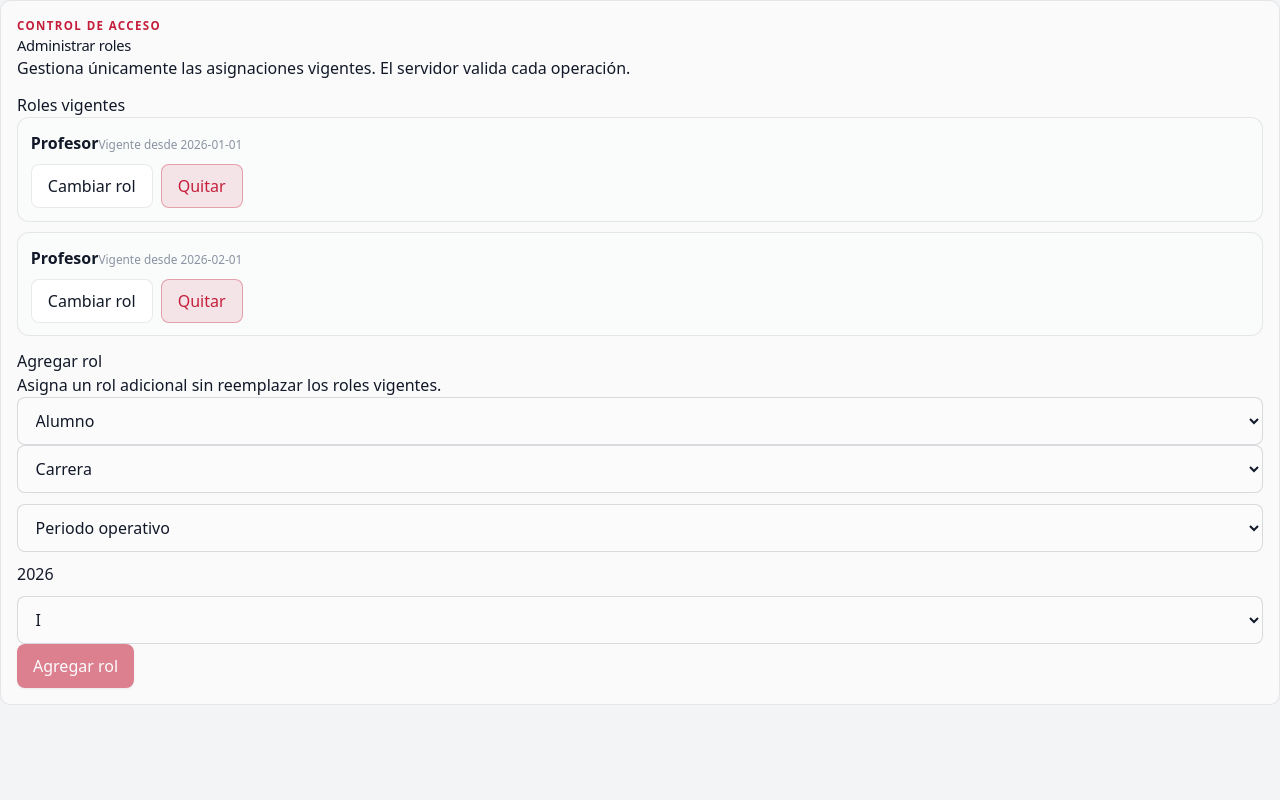
PersonRolesPanel › conserva el borrador de alta al abrir y cancelar un cambio de rol
Select "Artes" in the dropdown named "Carrera para el rol alumno" at [640, 469], box [17, 445, 1263, 493]
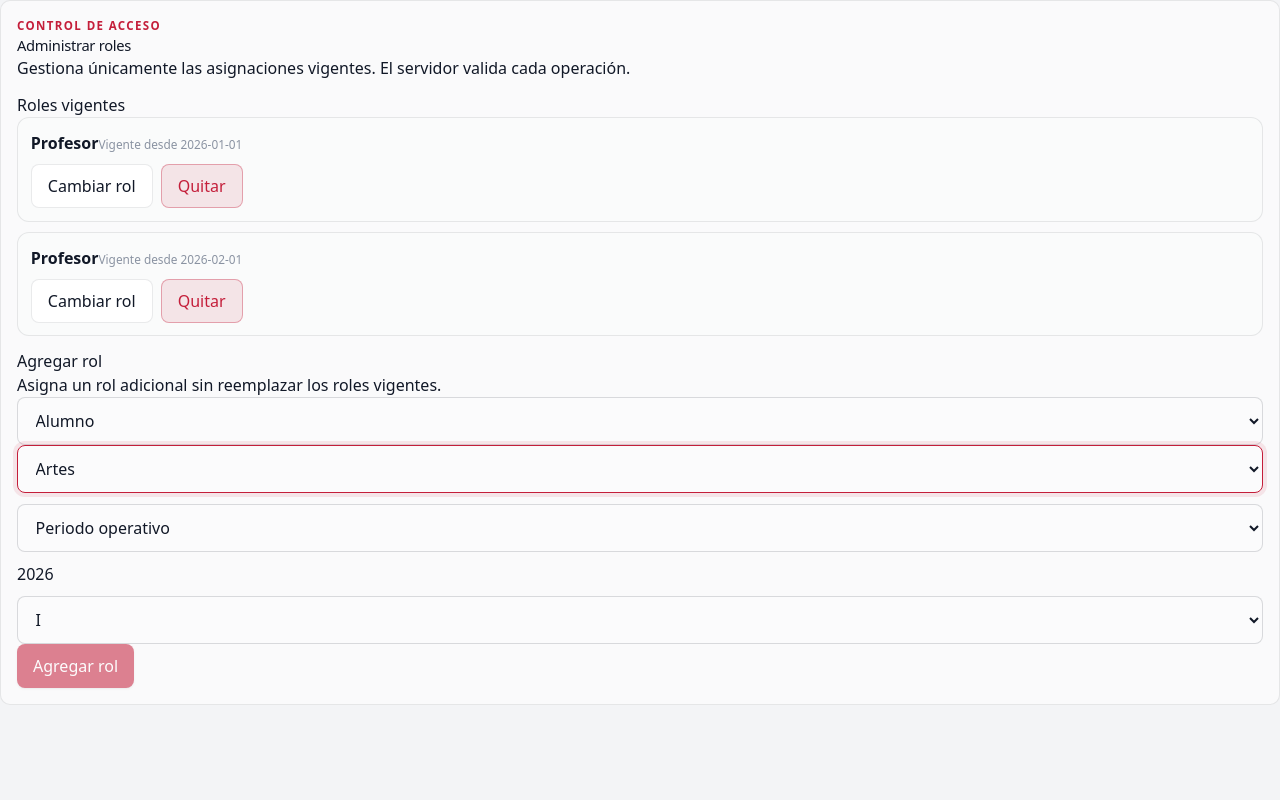
Select "2026-II" in the dropdown named "Periodo operativo de inscripción del rol alumno" at [640, 528], box [17, 504, 1263, 552]
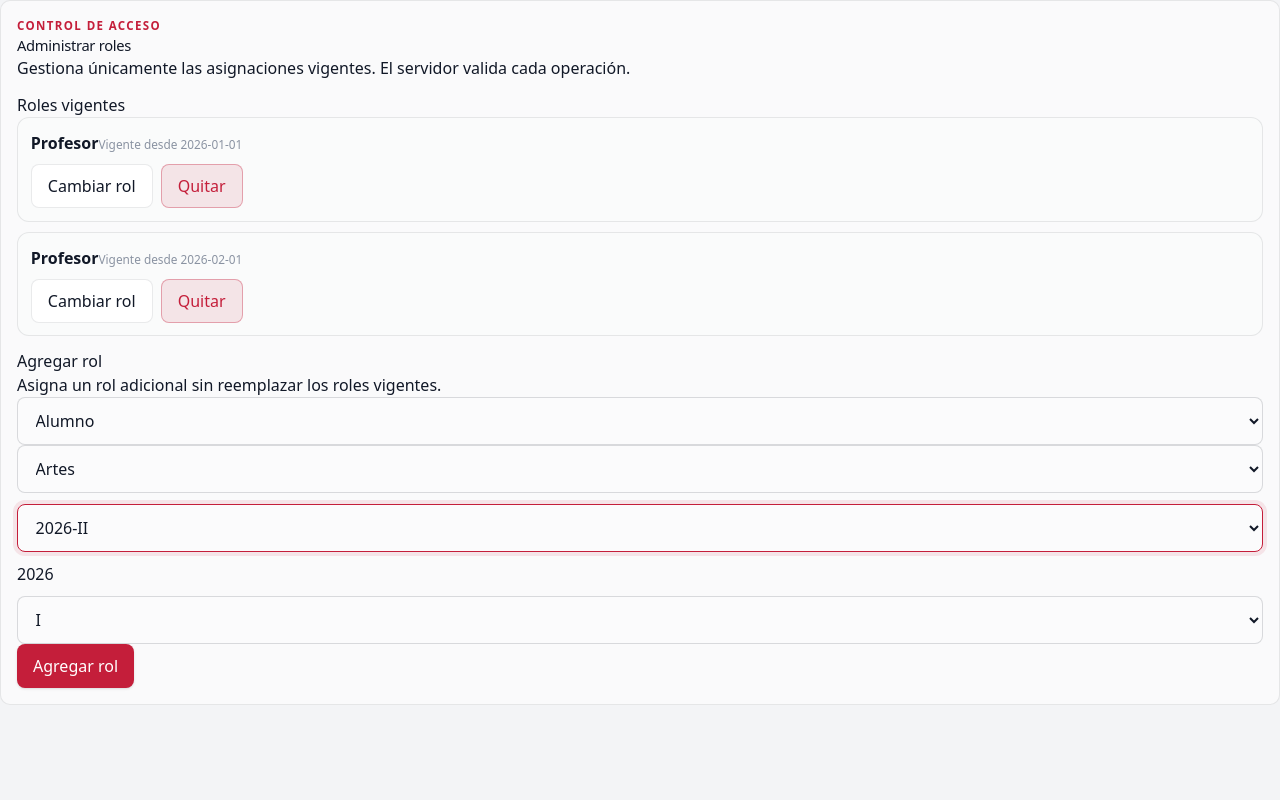
Click the button "Cambiar rol" below "2026-01-01".
click(92, 186)  # box [31, 164, 153, 208]
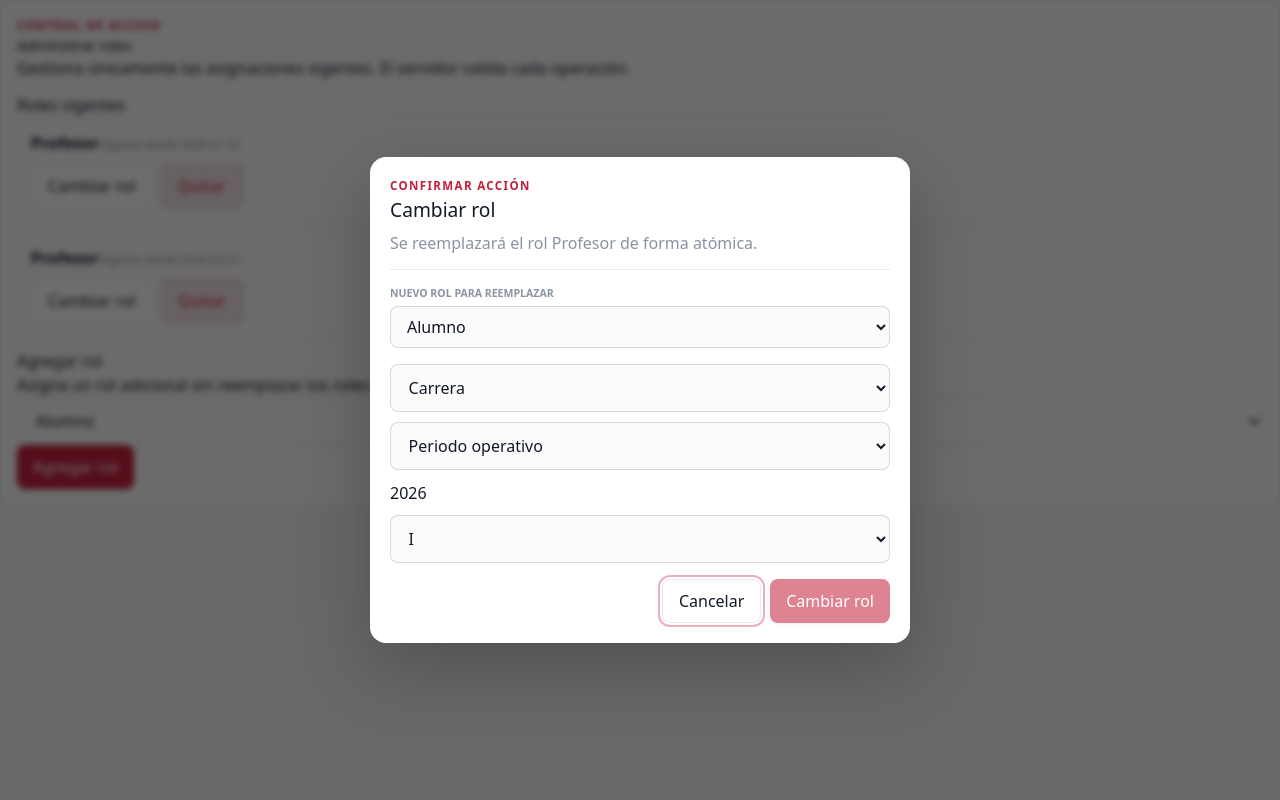
Now the dropdown named "Carrera para el rol alumno" shows "Carrera", box [390, 364, 890, 412]
Now the dropdown named "Periodo operativo de inscripción del rol alumno" shows "Periodo operativo", box [390, 422, 890, 470]
Click the button "Cancelar".
click(712, 601)  # box [662, 579, 761, 623]
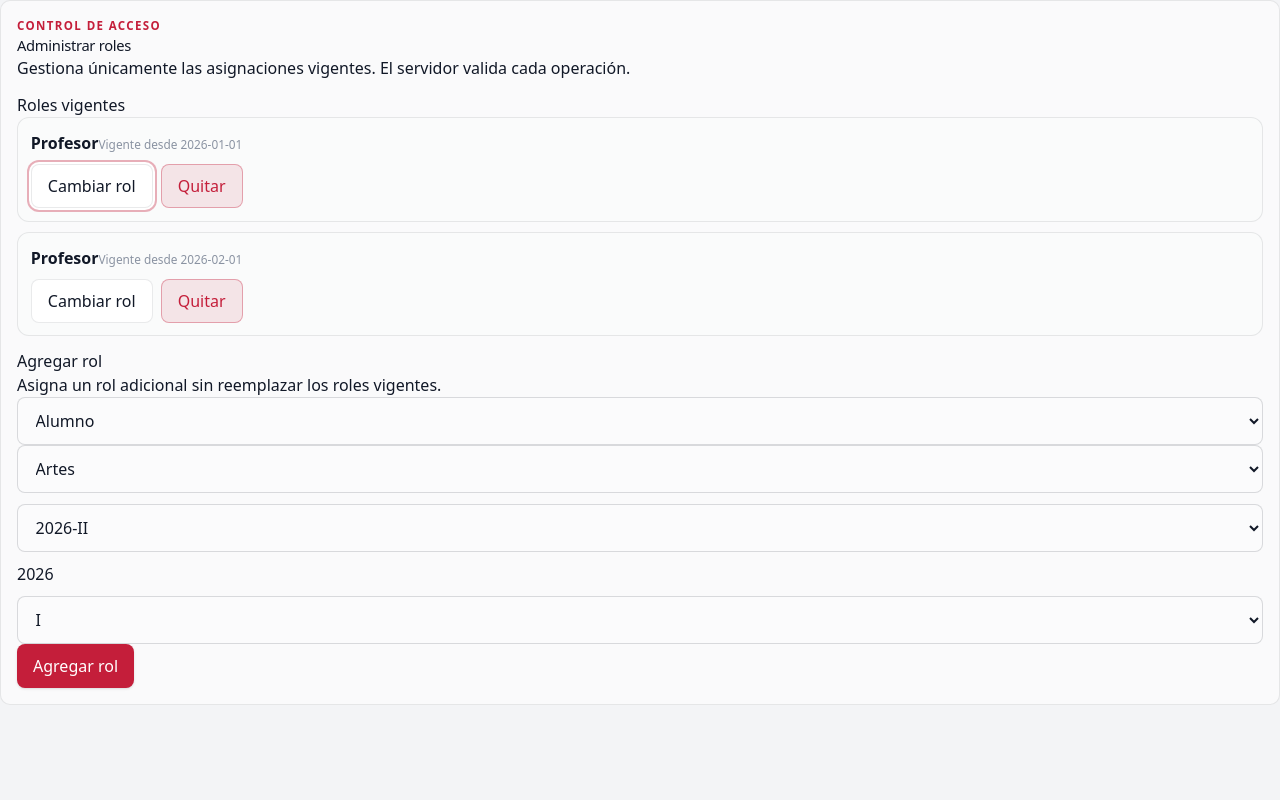
Now the dropdown named "Carrera para el rol alumno" shows "Artes", box [17, 445, 1263, 493]
Now the dropdown named "Periodo operativo de inscripción del rol alumno" shows "2026-II", box [17, 504, 1263, 552]
